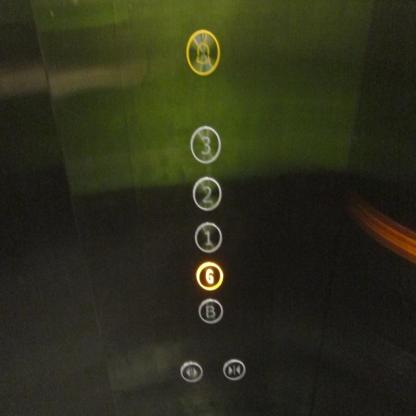1: (194, 221, 223, 254)
2: (191, 173, 223, 212)
3: (190, 124, 222, 166)
B: (197, 297, 224, 325)
G: (194, 260, 224, 292)
alarm: (185, 27, 221, 78)
close: (222, 358, 246, 381)
open: (177, 359, 204, 385)
